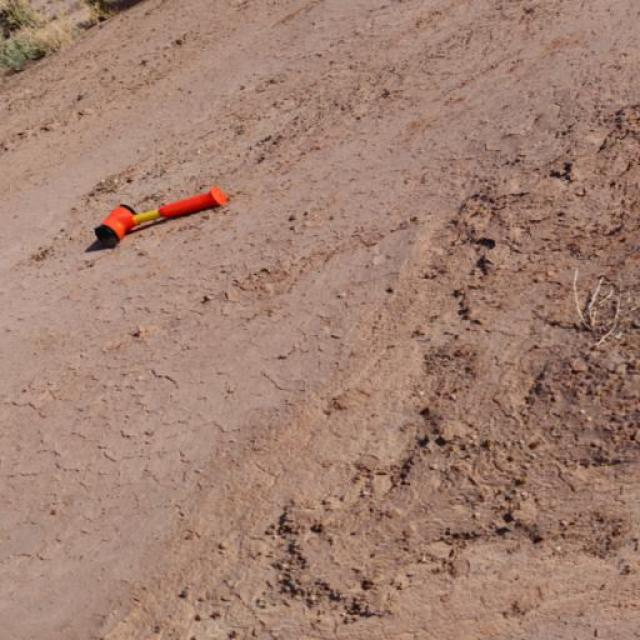mallet: (95, 184, 231, 246)
